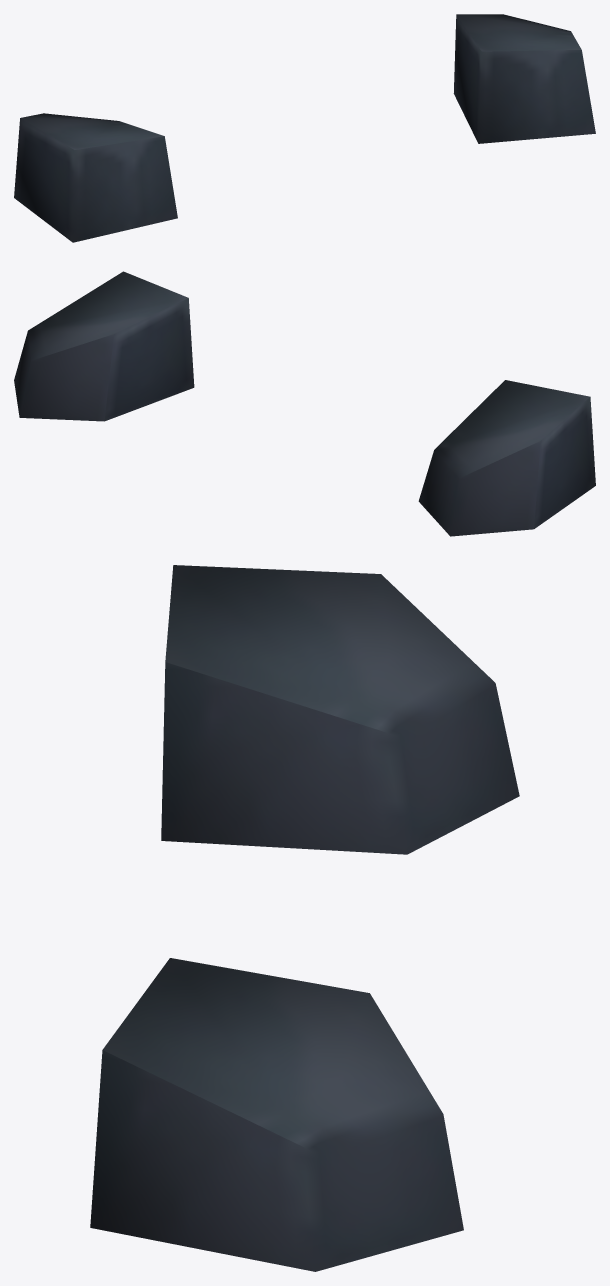
File: Area_04_42.fbx
3 views of the same model, one above another, from view 1: azimuth 30°, elevation 25°; view 2: azimuth 150°, elevation 25°; view 3: azimuth 270°, elevation 25° (orthographic). The views are drawn at different scales.
Visible parts, largest first — view 1: Area_04_42; view 2: Area_04_42; view 3: Area_04_42.
Boxes of the visible parts, x1,y1,x2,y2 form: Area_04_42: (14, 14, 595, 242); Area_04_42: (14, 271, 595, 536); Area_04_42: (90, 565, 519, 1271).
Bounding box in the file's own units: 1972 × 310 × 673.
